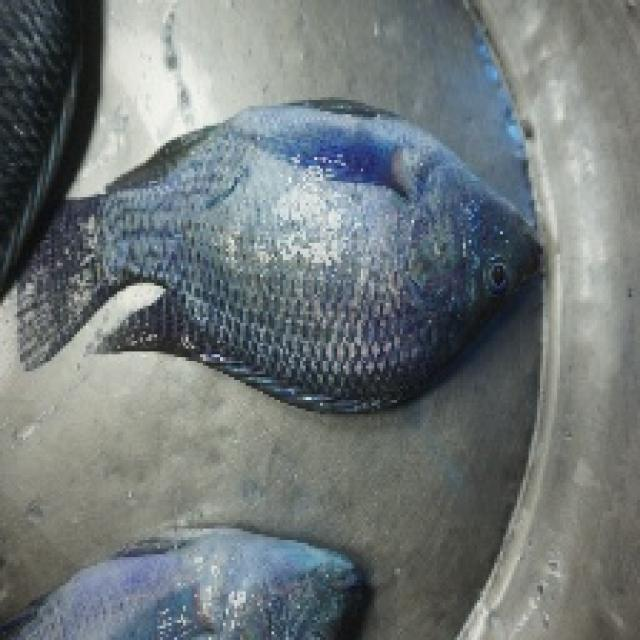Fresh: (142, 98, 552, 410)
